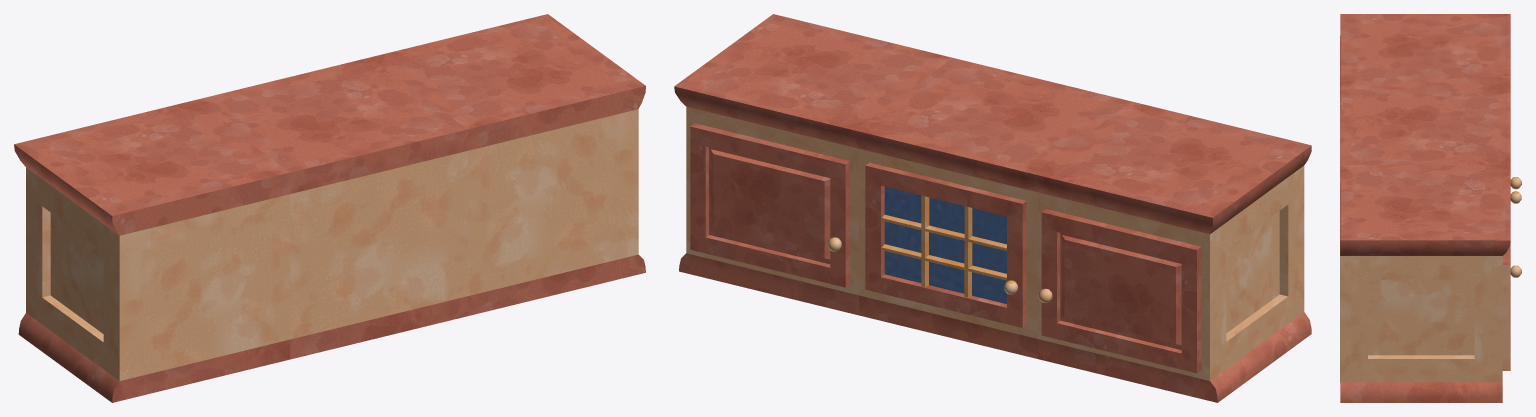
File: Sm_Long_Dresser.fbx
3 views of the same model, side by side, from view 1: azimuth 30°, elevation 25°; view 2: azimuth 150°, elevation 25°; view 3: azimuth 270°, elevation 25° (orthographic). The views are drawn at different scales.
Parts seen in each view (by area): view 1: SM_Long_Dresser; view 2: SM_Long_Dresser; view 3: SM_Long_Dresser.
Part boxes in pixels (x1=…): SM_Long_Dresser: x1=14, y1=14, x2=645, y2=402; SM_Long_Dresser: x1=674, y1=14, x2=1311, y2=402; SM_Long_Dresser: x1=1340, y1=14, x2=1521, y2=402.
Size of the model in its own units: 299 by 100 by 101.
